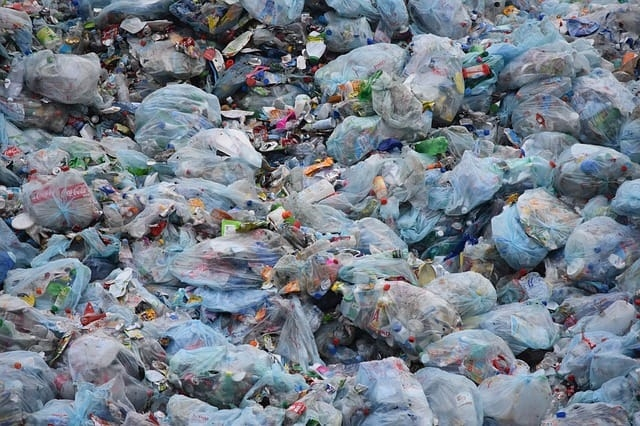plastic: (23, 164, 107, 231), (552, 144, 640, 201), (280, 390, 322, 424), (219, 28, 259, 58), (303, 29, 330, 67), (407, 137, 454, 156), (298, 118, 344, 134), (369, 174, 391, 207), (460, 62, 493, 83), (219, 217, 248, 239)
